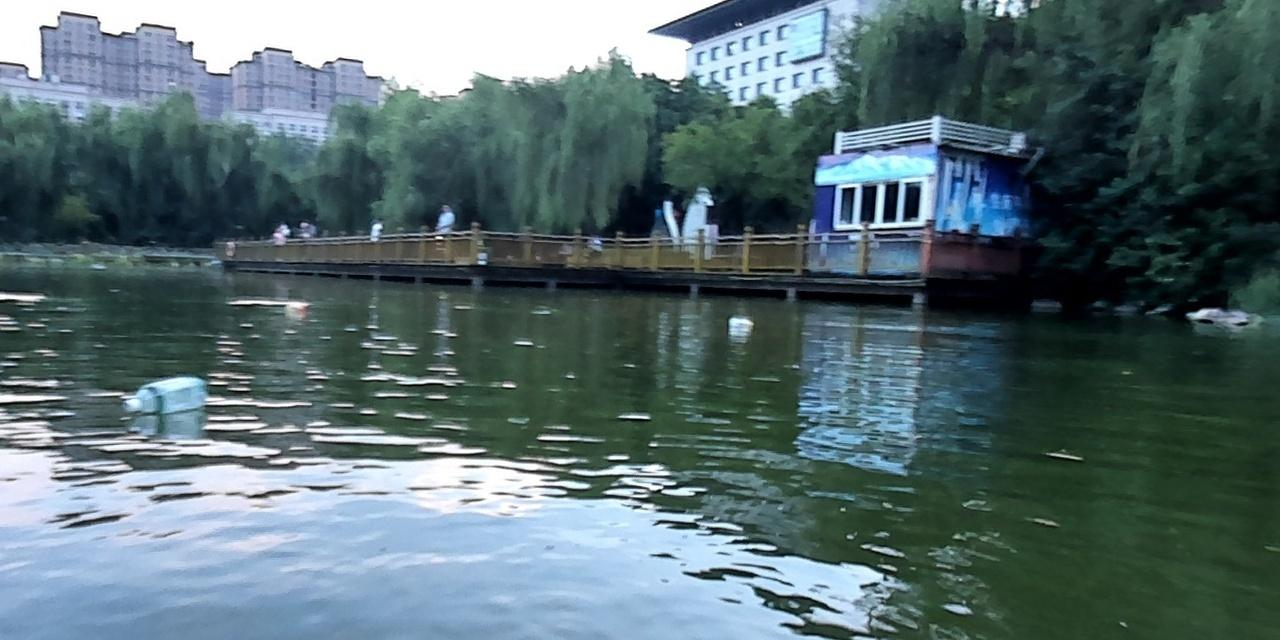bottle: (121, 374, 203, 414), (728, 316, 751, 330)
